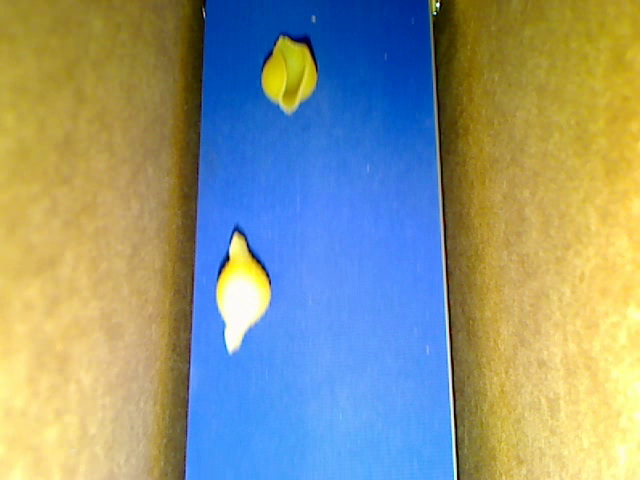shell: (215, 230, 272, 354), (260, 35, 318, 114)
